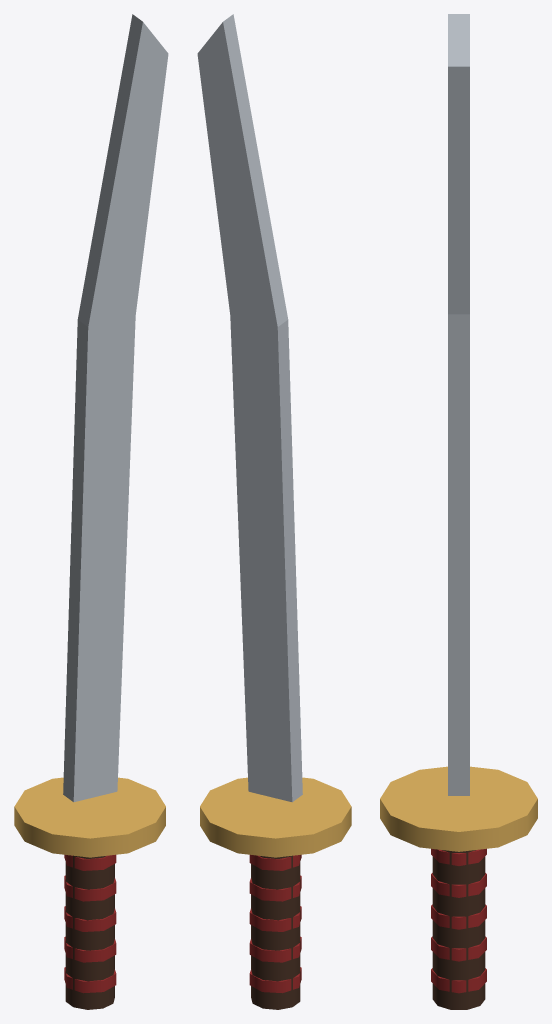
The model's file is samurai-katana.glb.
3 renders of one model, left to right at view 1: azimuth 30°, elevation 25°; view 2: azimuth 150°, elevation 25°; view 3: azimuth 270°, elevation 25°, orthographic. The views are drawn at different scales.
Visible parts, largest first — view 1: Blade, Guard, Grip, Wrap (×5); view 2: Blade, Guard, Grip, Wrap (×5); view 3: Blade, Guard, Grip, Wrap (×5).
Part boxes in pixels (x1,y1,x2,y2): Blade: (63, 14, 168, 802); Guard: (14, 777, 165, 857); Grip: (65, 855, 114, 1009); Wrap (×5): (64, 854, 116, 993); Blade: (197, 14, 302, 802); Guard: (200, 777, 351, 857); Grip: (251, 855, 300, 1009); Wrap (×5): (249, 854, 301, 993); Blade: (448, 14, 469, 795); Guard: (380, 766, 537, 851); Grip: (432, 850, 485, 1009); Wrap (×5): (431, 848, 486, 993).
Bounding box in the file's own units: 0.19 × 1.27 × 0.18.
